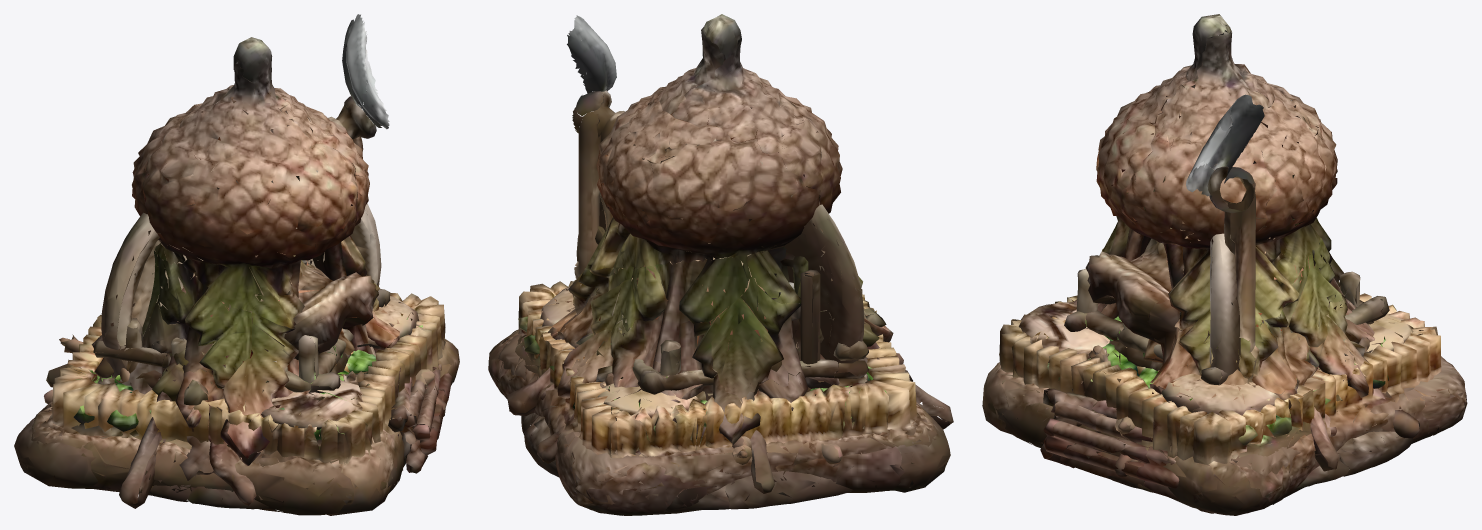
The model's file is Village.glb.
3 renders of one model, left to right at view 1: azimuth 30°, elevation 25°; view 2: azimuth 150°, elevation 25°; view 3: azimuth 270°, elevation 25°, orthographic. The views are drawn at different scales.
Parts seen in each view (by area): view 1: 01_Tent, 16_GrainPlot, 18_MushroomPlot, 03_Burrow, 00_Shield, 02_AphidPen, 05_ConstructionSite, 19_FishingRod, 15_CressPlot, 06_Palisade; view 2: 01_Tent, 16_GrainPlot, 18_MushroomPlot, 19_FishingRod, 00_Shield, 03_Burrow, 02_AphidPen, 05_ConstructionSite, 15_CressPlot, 06_Palisade; view 3: 01_Tent, 16_GrainPlot, 18_MushroomPlot, 03_Burrow, 05_ConstructionSite, 19_FishingRod, 02_AphidPen, 00_Shield, 15_CressPlot, 06_Palisade.
Part boxes in pixels (x1,y1,x2,y2): 01_Tent: (46, 37, 446, 508); 16_GrainPlot: (14, 292, 459, 513); 18_MushroomPlot: (31, 296, 443, 515); 03_Burrow: (120, 254, 432, 509); 00_Shield: (101, 164, 381, 377); 02_AphidPen: (93, 289, 390, 402); 05_ConstructionSite: (388, 358, 452, 473); 19_FishingRod: (169, 14, 389, 324); 15_CressPlot: (52, 317, 450, 480); 06_Palisade: (44, 334, 435, 403); 01_Tent: (507, 14, 953, 493); 16_GrainPlot: (488, 281, 950, 515); 18_MushroomPlot: (498, 286, 937, 515); 19_FishingRod: (567, 15, 656, 297); 00_Shield: (576, 138, 864, 372); 03_Burrow: (521, 226, 912, 509); 02_AphidPen: (612, 292, 868, 402); 05_ConstructionSite: (745, 269, 820, 500); 15_CressPlot: (510, 316, 913, 504); 06_Palisade: (554, 348, 859, 464); 01_Tent: (1072, 14, 1450, 476); 16_GrainPlot: (988, 292, 1466, 515); 18_MushroomPlot: (982, 301, 1467, 513); 03_Burrow: (1085, 227, 1413, 493); 05_ConstructionSite: (1040, 381, 1184, 499); 19_FishingRod: (1186, 94, 1264, 385); 02_AphidPen: (1064, 268, 1389, 385); 00_Shield: (1209, 233, 1240, 376); 15_CressPlot: (1006, 316, 1388, 513); 06_Palisade: (1088, 337, 1372, 434).
Size of the model in its own units: 0.1435 by 0.127 by 0.1366.
Materials: 1 (1 with a texture image).
